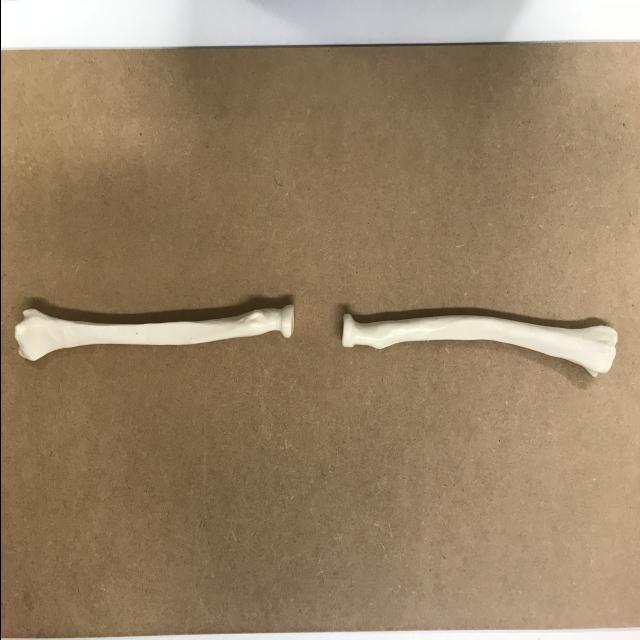bone: (8, 284, 297, 366), (338, 309, 619, 383)
